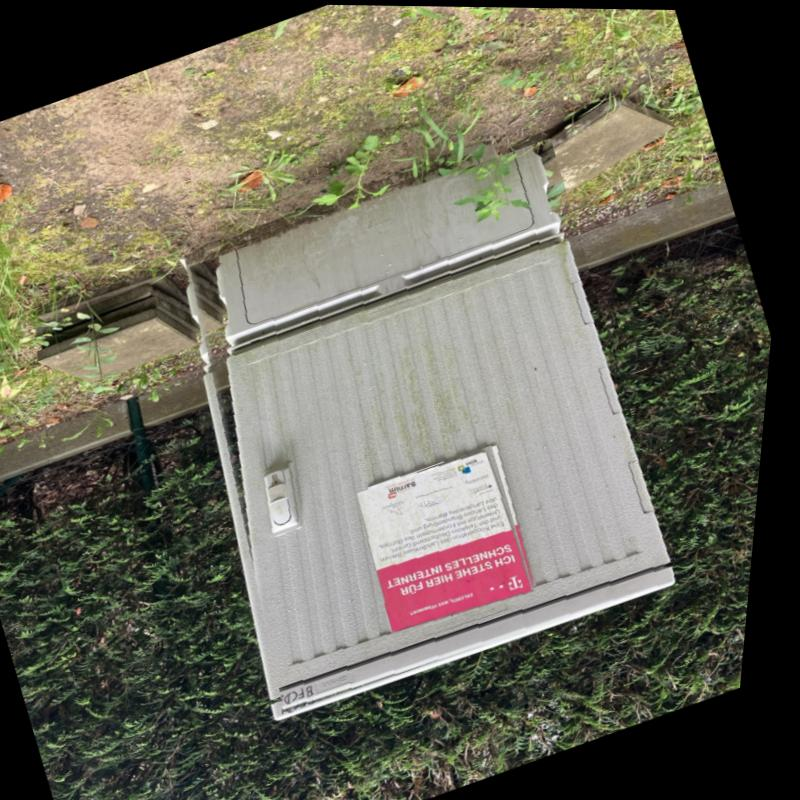NT-Gehause: (131, 131, 721, 724)
Steaker: (351, 442, 555, 641)
